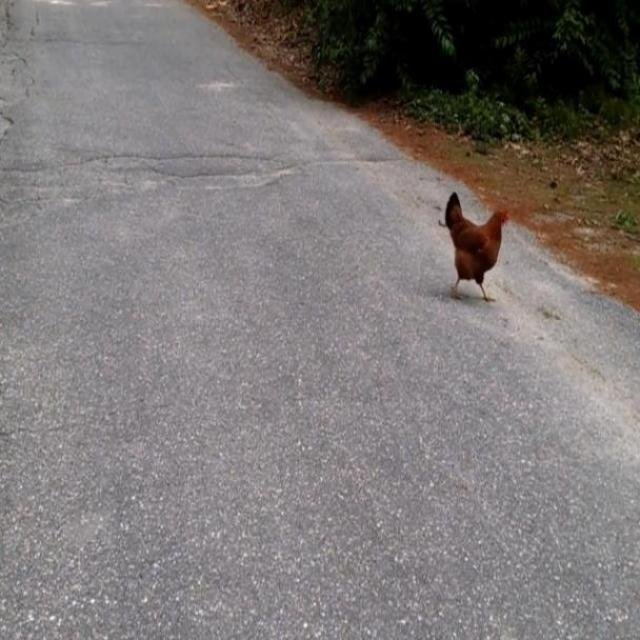Chicken: (444, 191, 510, 304)
